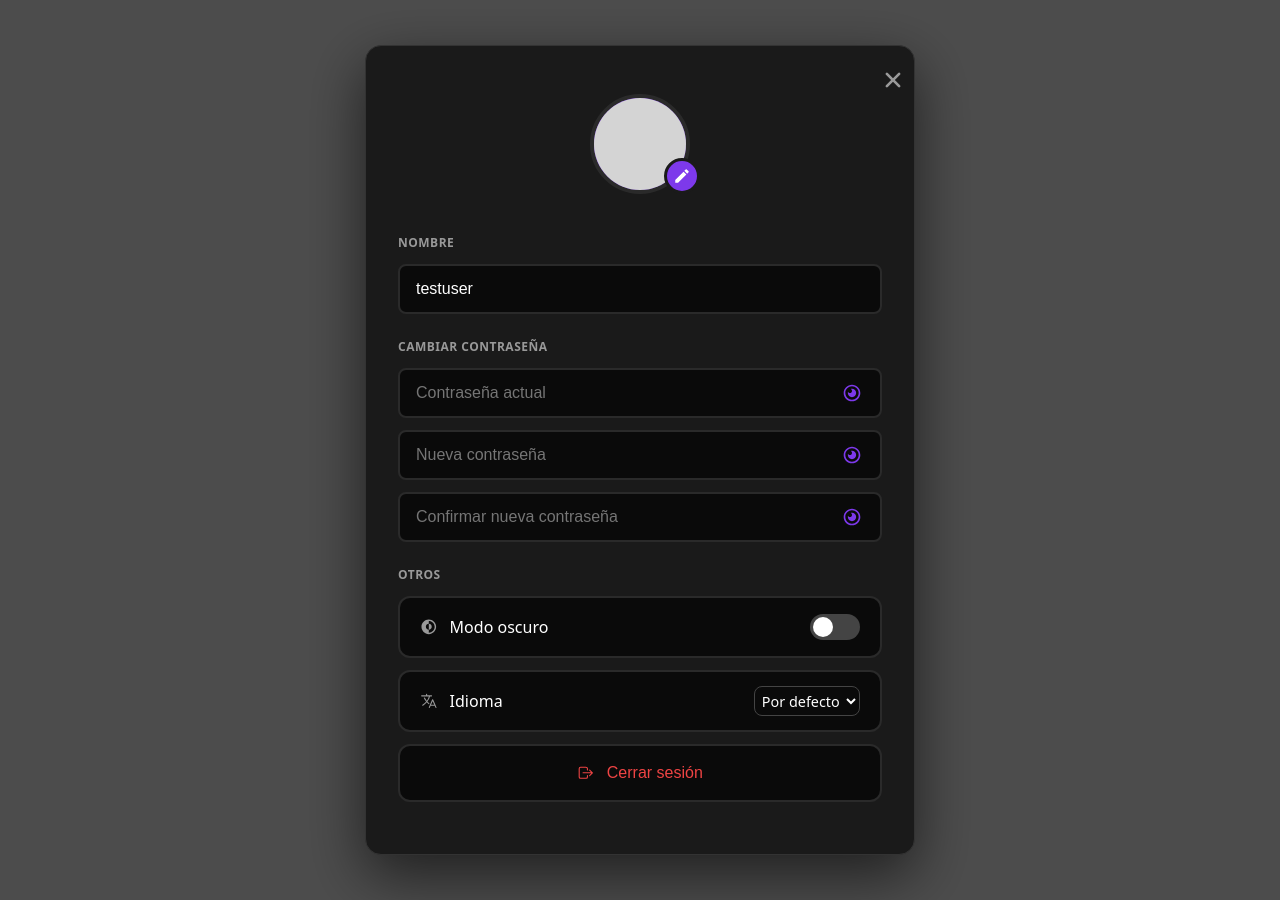
Test: UserProfileModal Component › handles remove avatar
Click the button with class "avatar-edit-btn". click: [682, 176]
box: [664,158,700,194]
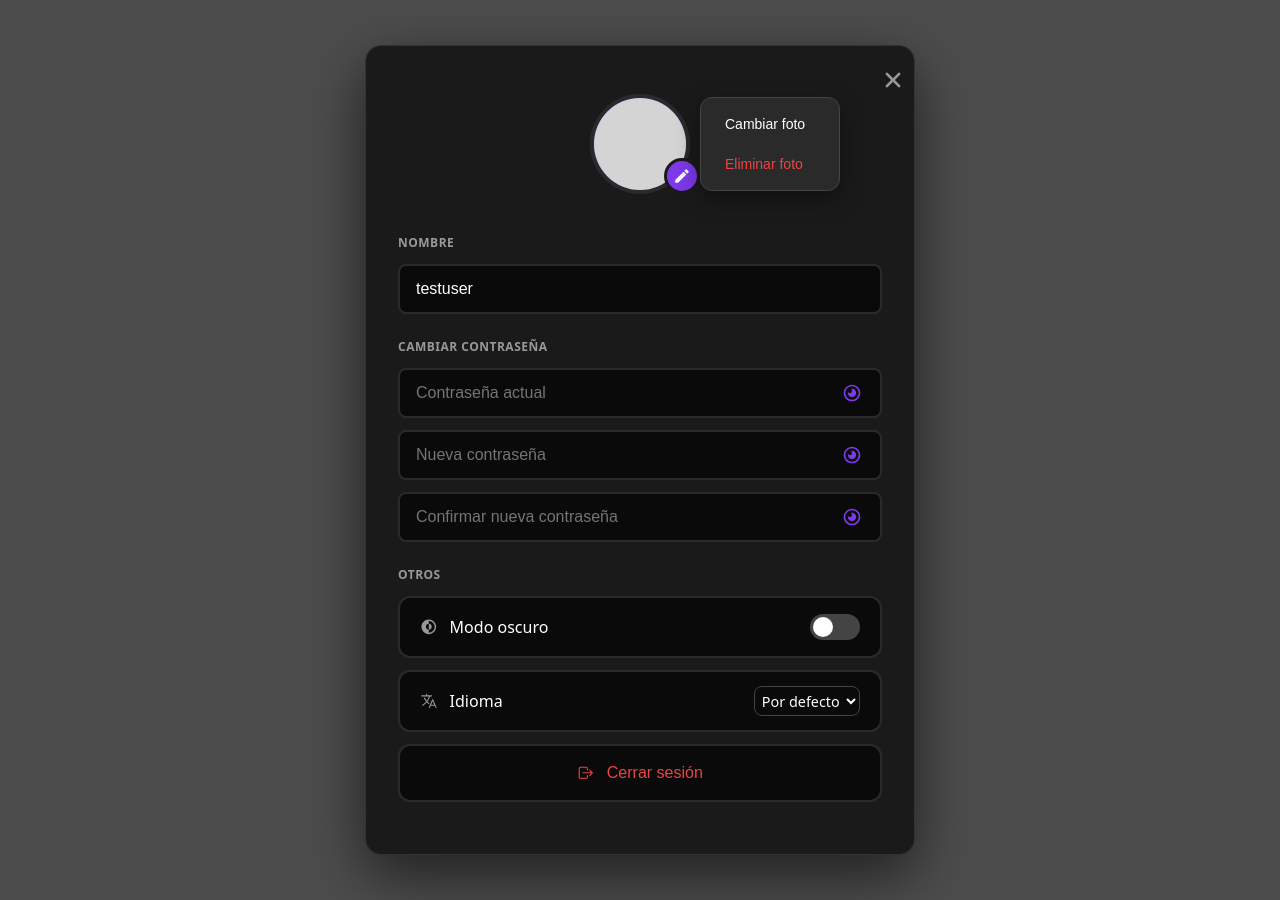
Click the button "Eliminar foto". click: [770, 164]
box: [709,146,831,182]
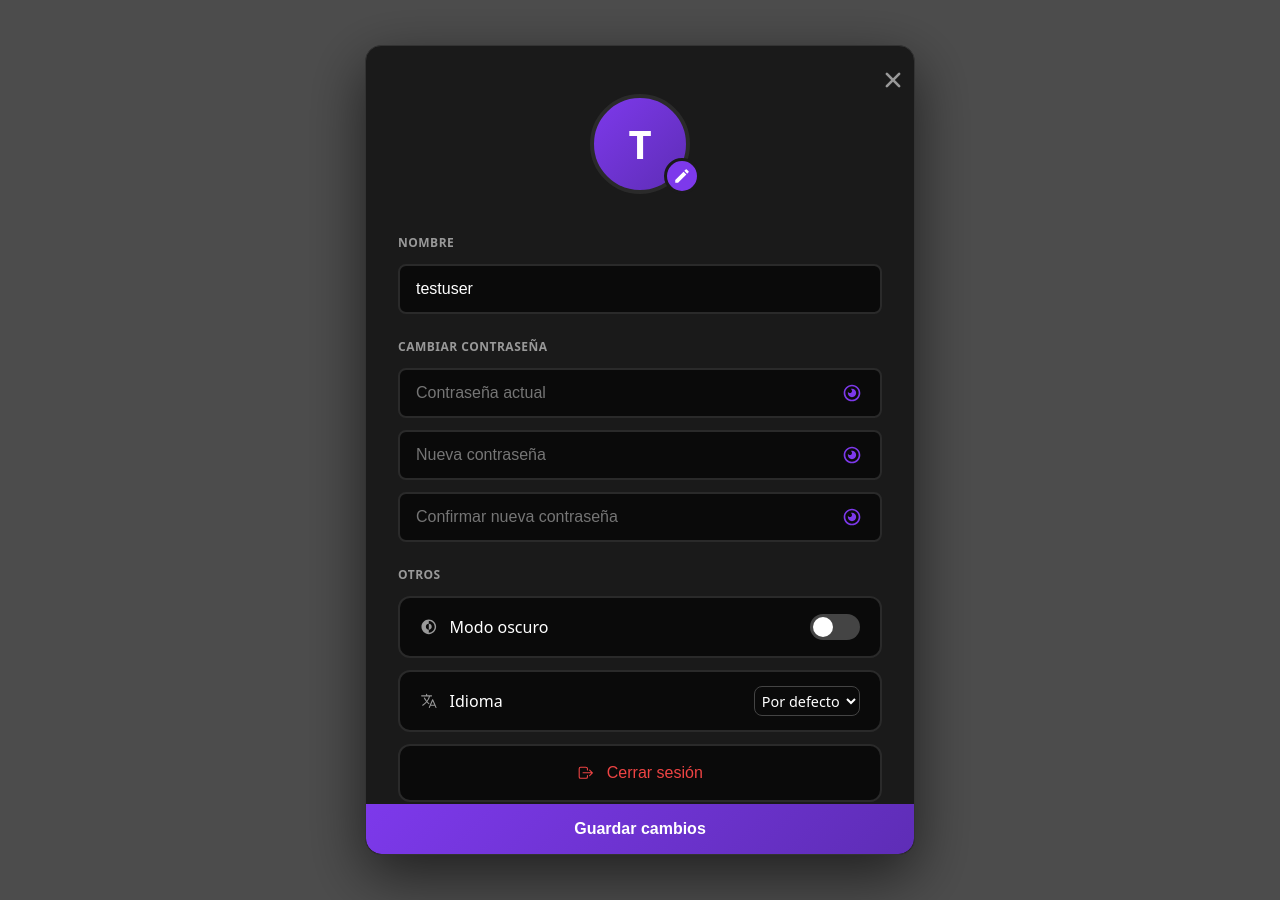
Expected: the button "Guardar cambios" is shown, [366,804,914,854]
